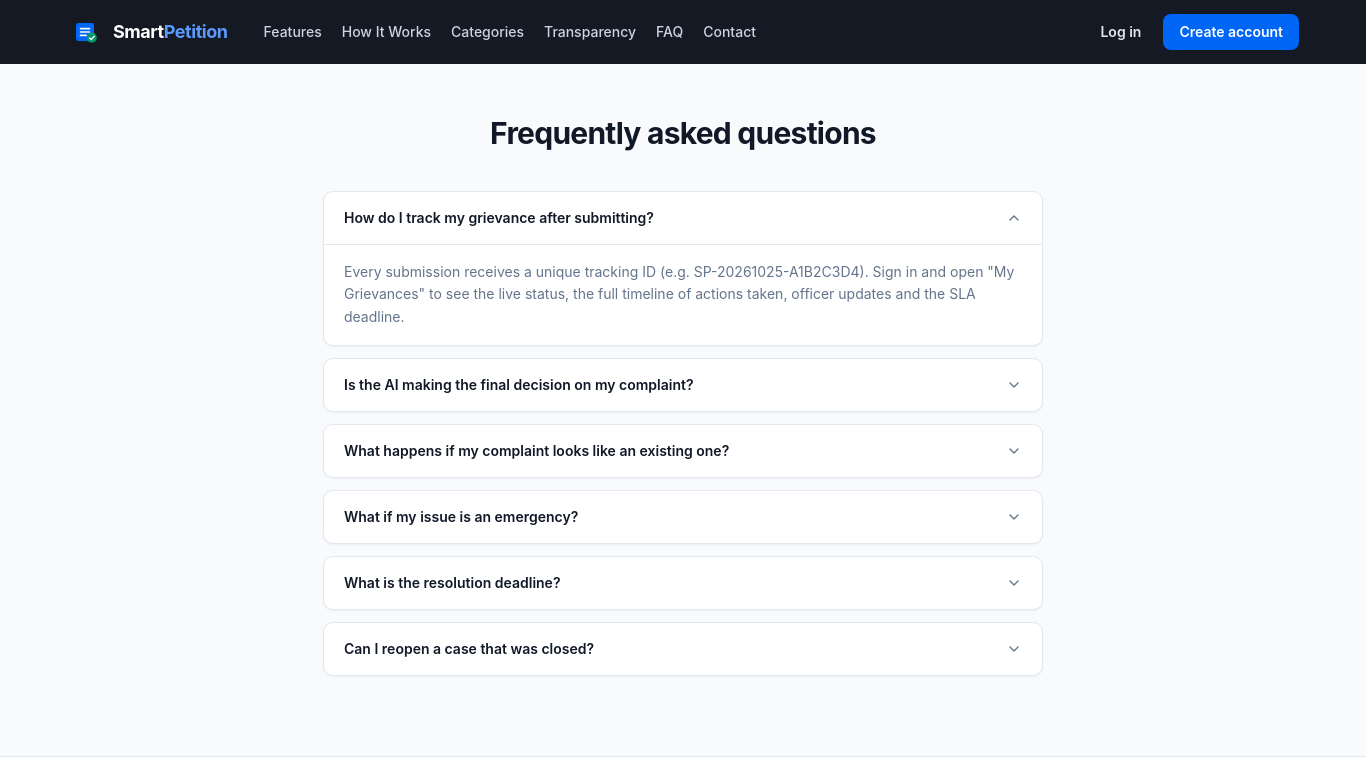
public landing page › FAQ accordion expands on click
(page scrolled)
Click the button "Is the AI making the final decision on my complaint?": coordinates (683, 385) x1=324 y1=359 x2=1042 y2=411
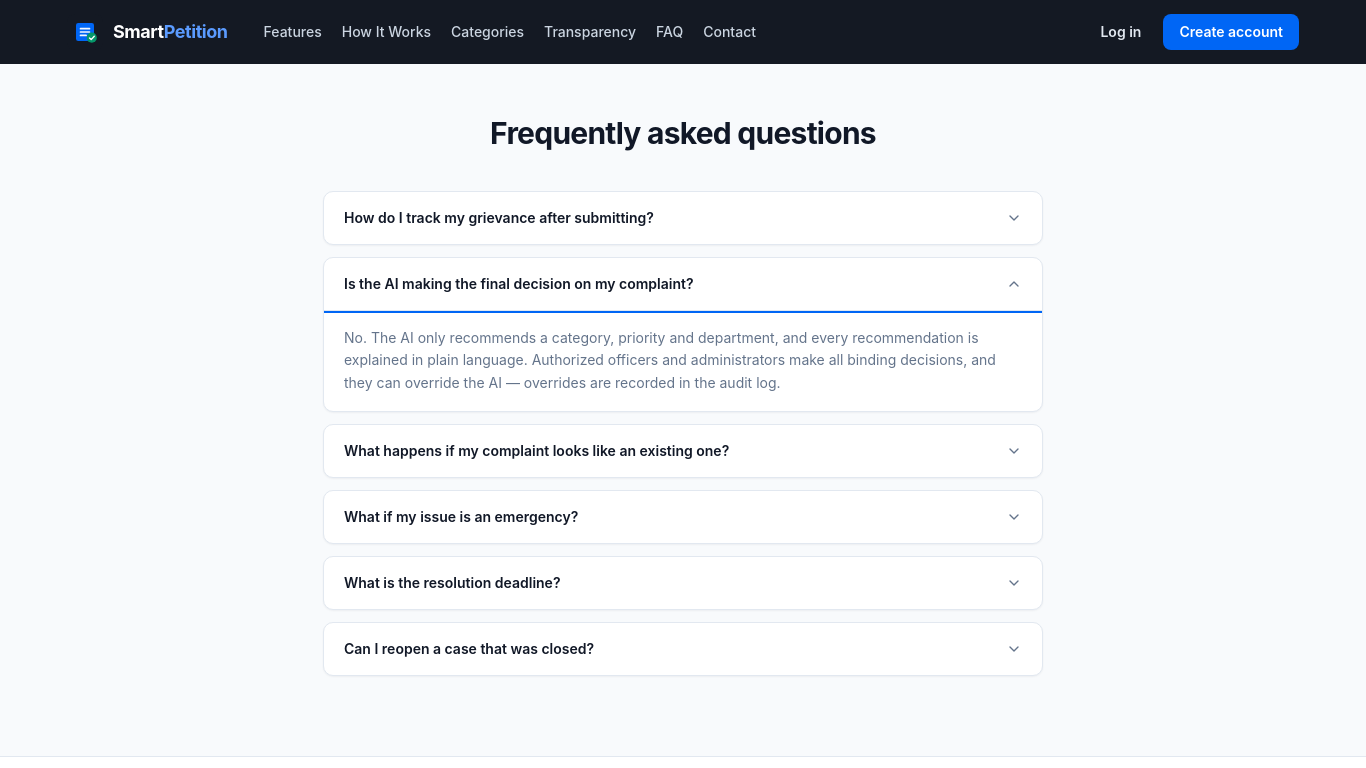
Check: the button "Is the AI making the final decision on my complaint?" is expanded, box x1=324 y1=258 x2=1042 y2=310
Check: the text "authorized officers and administrators make all binding decisions" is shown, box x1=344 y1=328 x2=996 y2=391
